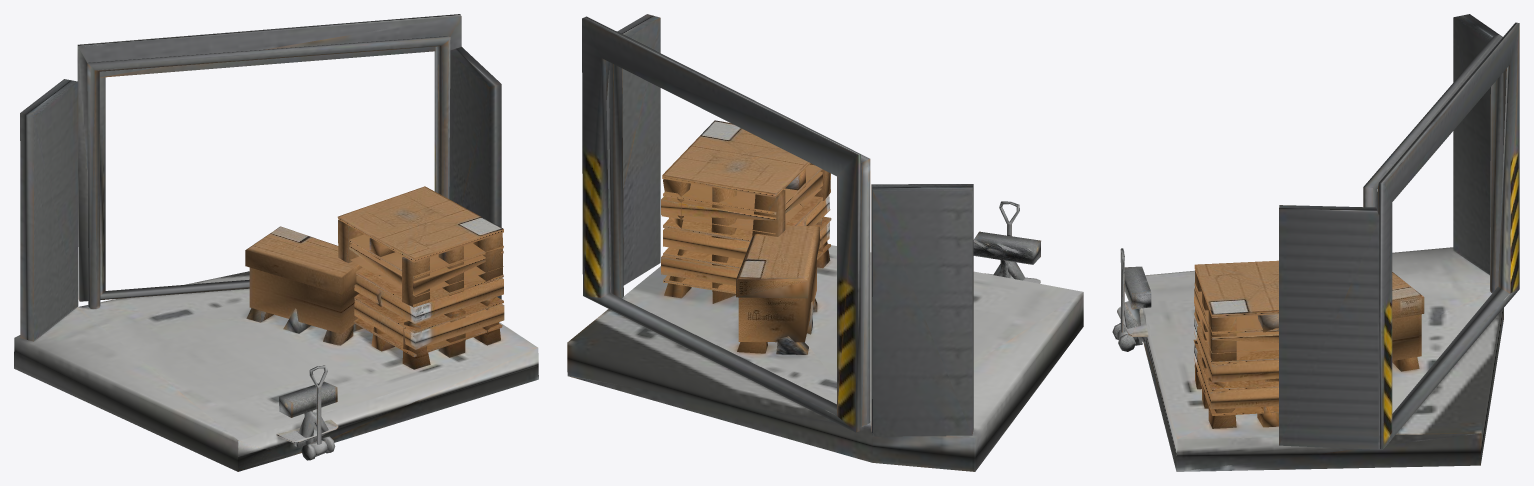
Rendered from loading_dock.glb.
3 views of the same model, side by side, from view 1: azimuth 30°, elevation 25°; view 2: azimuth 150°, elevation 25°; view 3: azimuth 270°, elevation 25° (orthographic). The views are drawn at different scales.
Size of the model in its own units: 5 by 3.4 by 4.2.
1 material, 1 textured.
